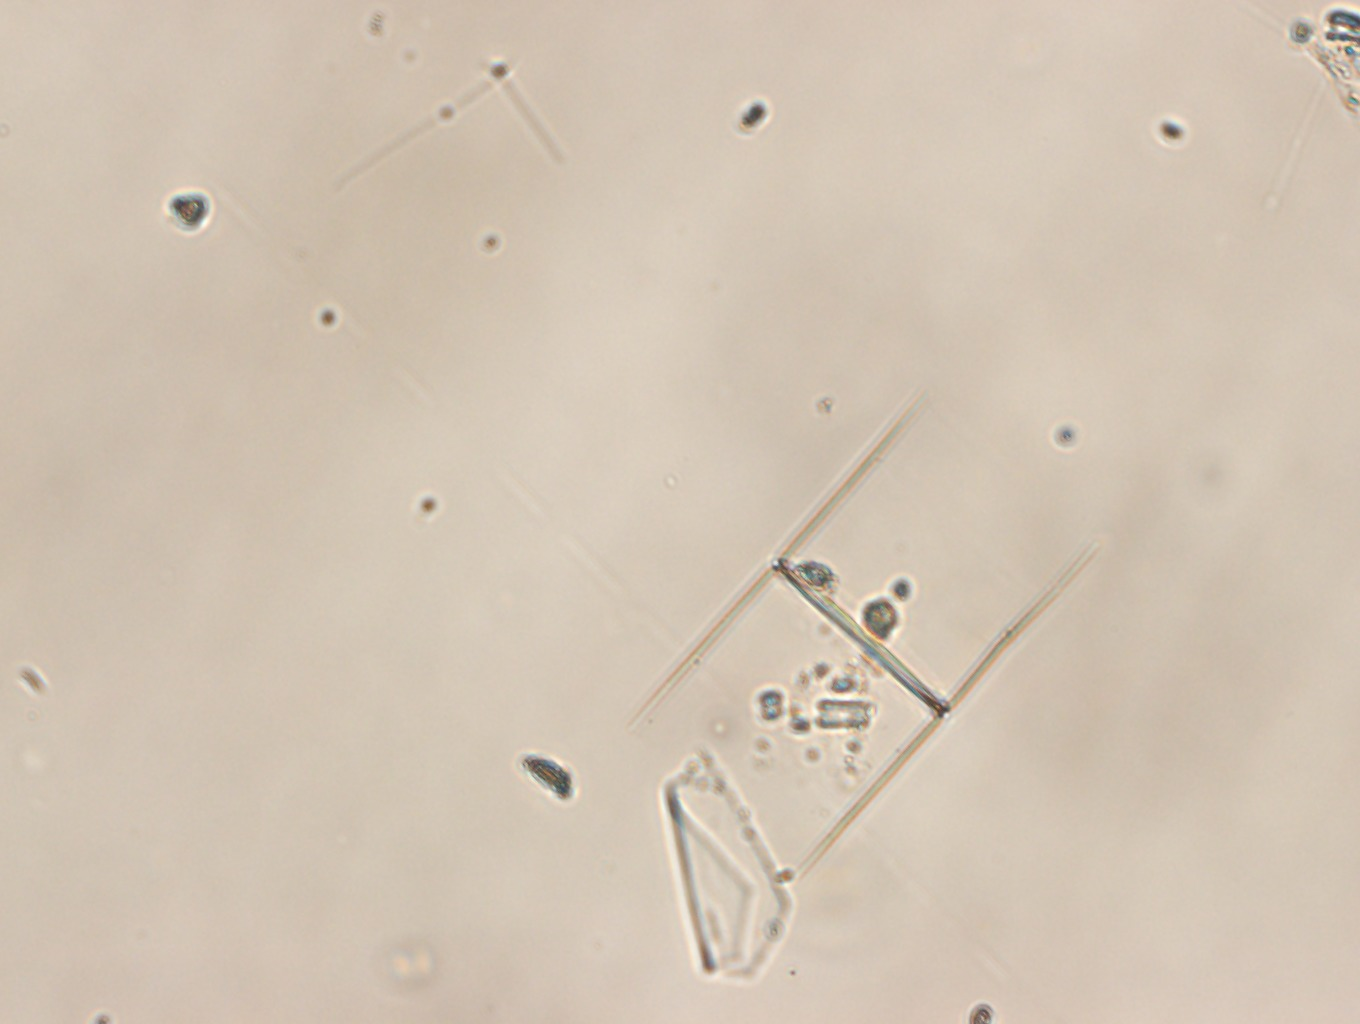guinardia flaccida: (626, 395, 1102, 874)
